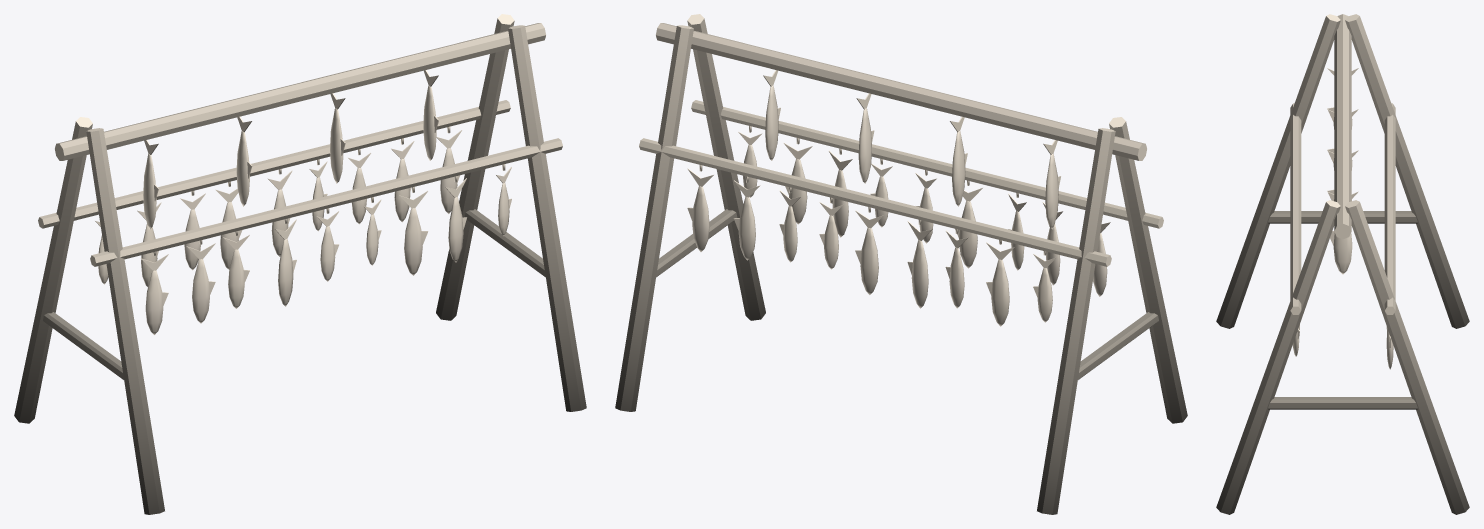
Rendered from SM_VK_Prop_FishRack.fbx.
The picture shows the model from 3 angles, left to right: view 1: azimuth 30°, elevation 25°; view 2: azimuth 150°, elevation 25°; view 3: azimuth 270°, elevation 25°; orthographic projection. The views are drawn at different scales.
Parts seen in each view (by area): view 1: SM_VK_Prop_FishRack.001; view 2: SM_VK_Prop_FishRack.001; view 3: SM_VK_Prop_FishRack.001.
Part boxes in pixels (<box>): SM_VK_Prop_FishRack.001: <box>14,14,586,514</box>; SM_VK_Prop_FishRack.001: <box>615,14,1187,514</box>; SM_VK_Prop_FishRack.001: <box>1216,14,1469,514</box>.
Bounding box in the file's own units: 3.2 × 2.18 × 1.61.
